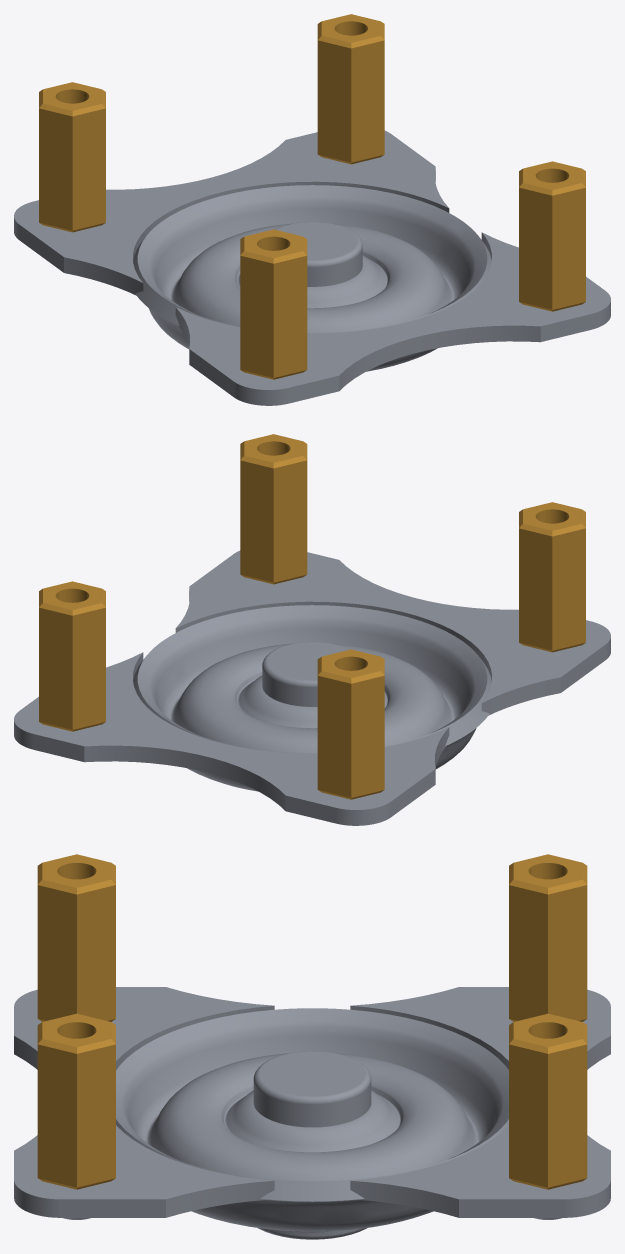
The model's file is swivel_caster_30mm_base.dae.
3 renders of one model, top to bottom at view 1: azimuth 30°, elevation 25°; view 2: azimuth 150°, elevation 25°; view 3: azimuth 270°, elevation 25°, orthographic. The views are drawn at different scales.
Parts seen in each view (by area): view 1: plate, standoffs; view 2: plate, standoffs; view 3: plate, standoffs.
Part boxes in pixels (x1=…): plate: x1=14, y1=130, x2=610, y2=405; standoffs: x1=39, y1=14, x2=585, y2=379; plate: x1=14, y1=550, x2=610, y2=825; standoffs: x1=39, y1=434, x2=585, y2=799; plate: x1=14, y1=987, x2=610, y2=1239; standoffs: x1=37, y1=854, x2=587, y2=1189.
Bounding box in the file's own units: 0.032 × 0.038 × 0.0183.
